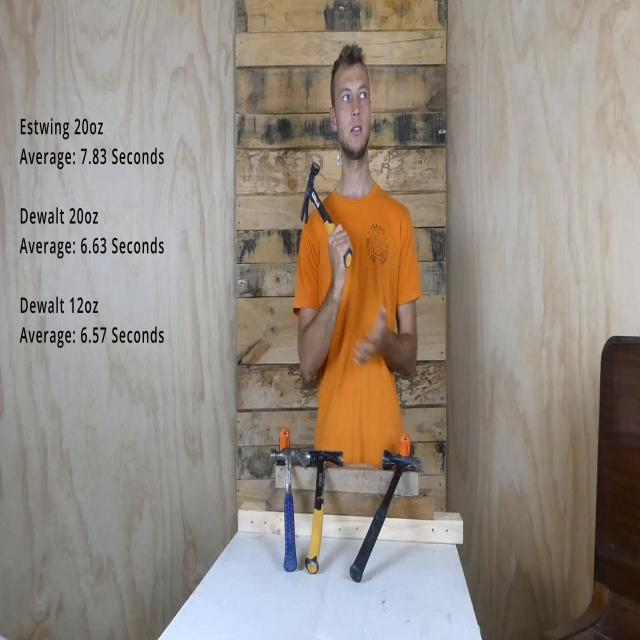hammer: (349, 448, 425, 586), (297, 159, 354, 270), (300, 445, 346, 581), (266, 438, 305, 575)
